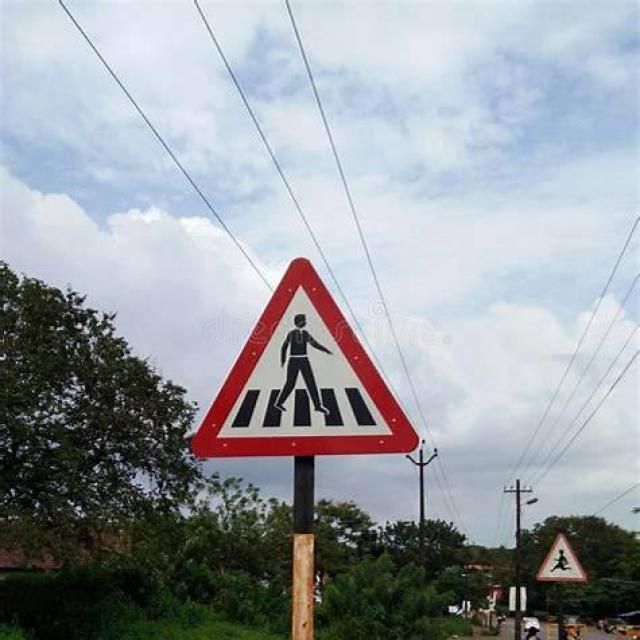pedestrian crossing: (182, 255, 424, 465)
